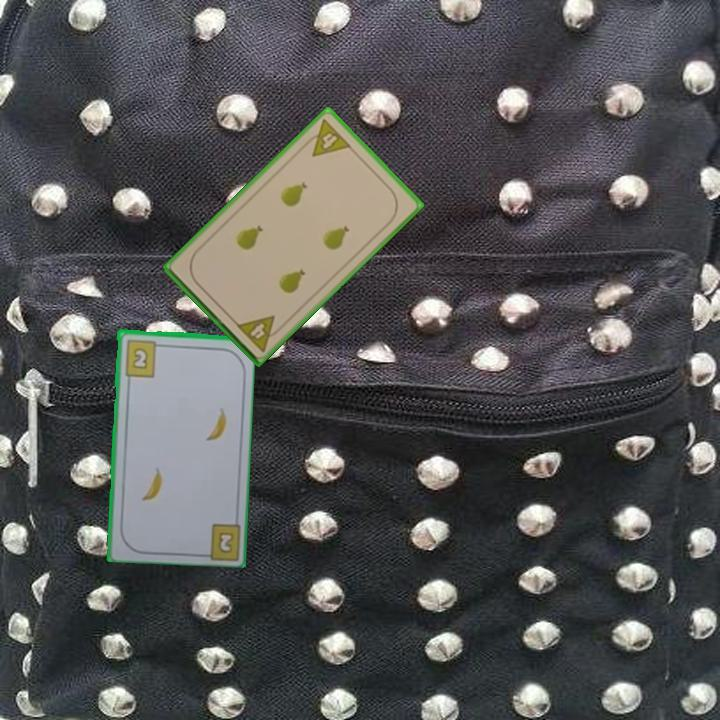2b: (121, 336, 165, 379), (216, 530, 234, 553)
4p: (299, 115, 354, 159), (233, 311, 286, 355)
